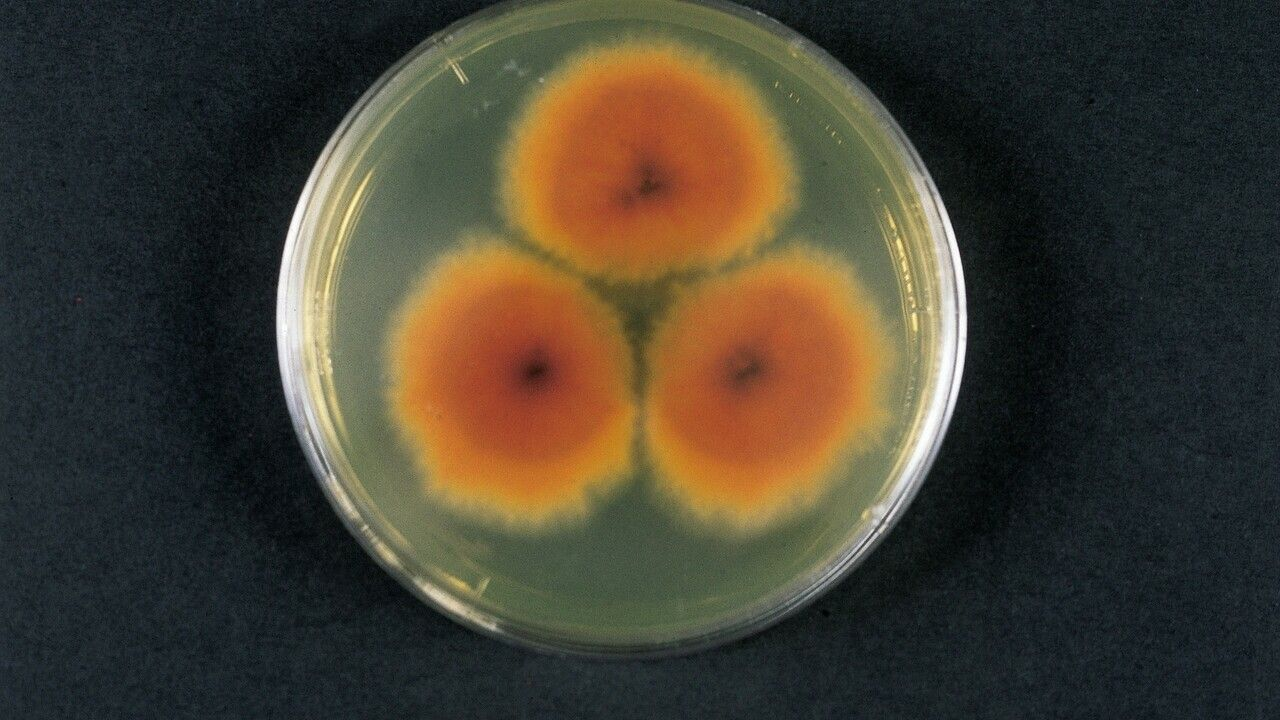Trichophyton: (389, 256, 647, 505), (645, 290, 839, 500), (544, 69, 730, 252)
